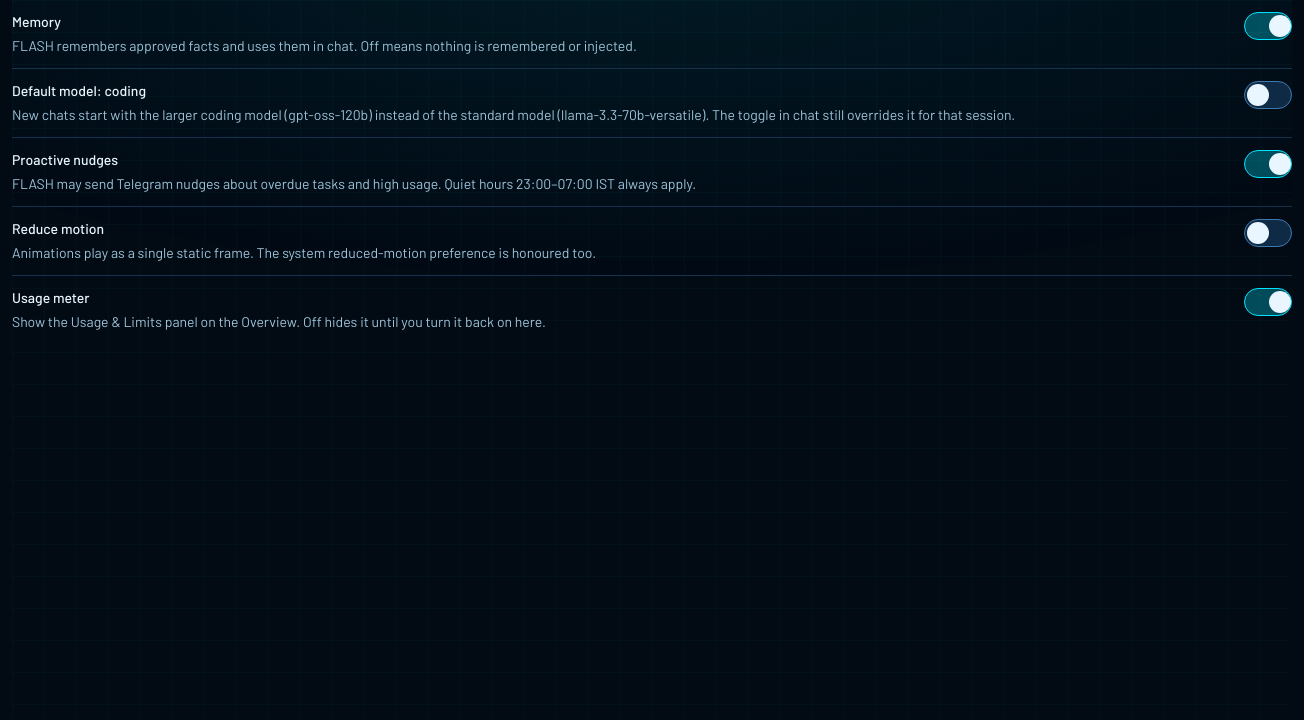
Scenario: settings panel (Phase 2) › a failed save reverts the switch and the document, and says so
Click the switch named "Reduce motion". click: {"x": 1268, "y": 233}
box: x1=1244 y1=219 x2=1292 y2=247
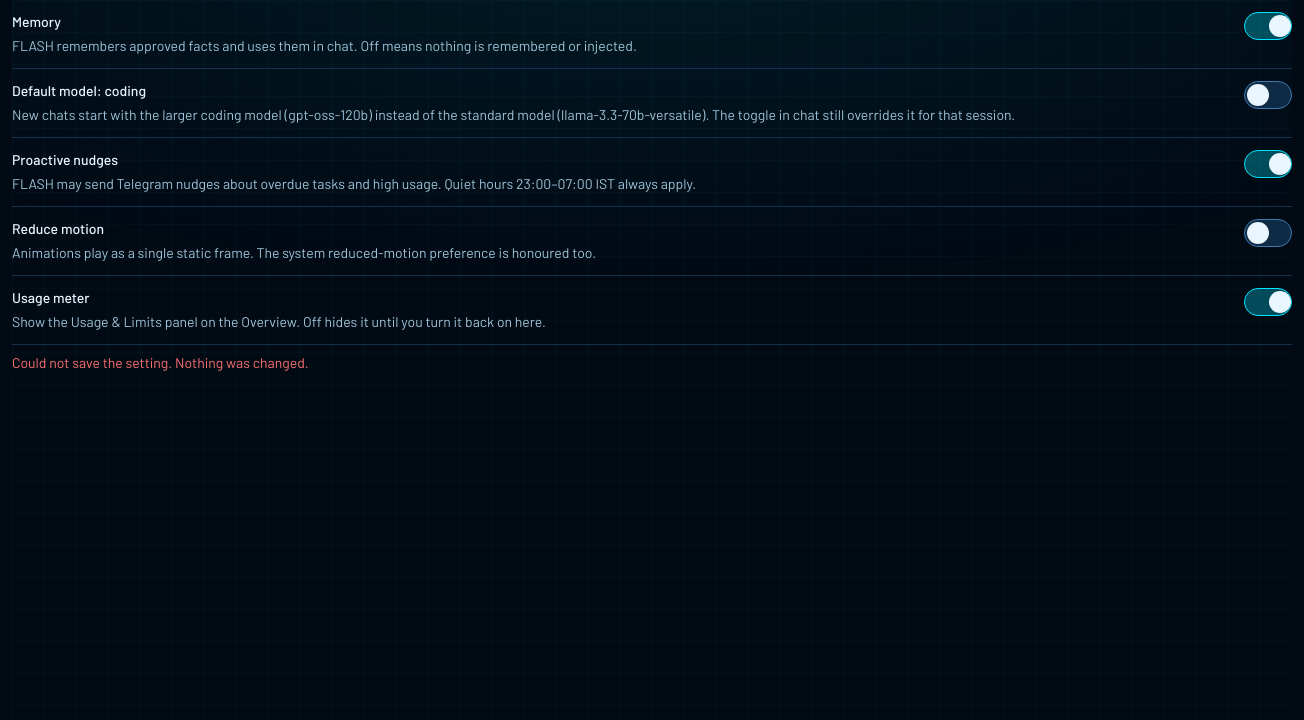
Expected: the message reads "Could not save the setting. Nothing was changed.", x1=12 y1=354 x2=309 y2=371
